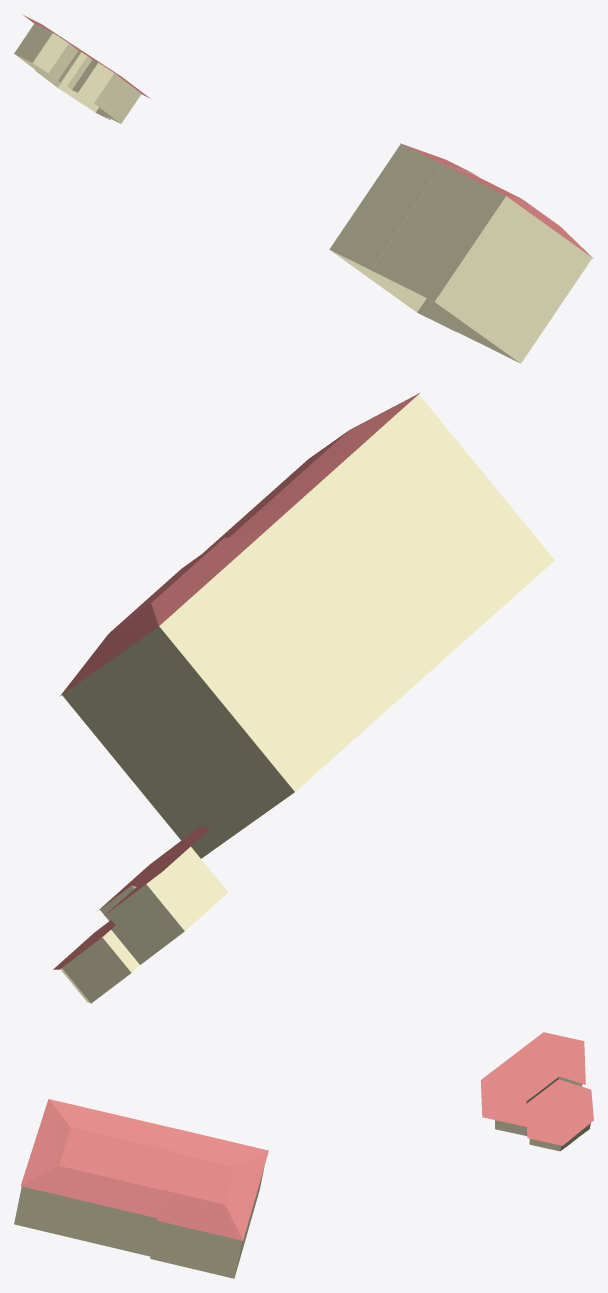
File: tile_049.glb
The picture shows the model from 3 angles, top to bottom: view 1: azimuth 30°, elevation 25°; view 2: azimuth 150°, elevation 25°; view 3: azimuth 270°, elevation 25°; orthographic projection. The views are drawn at different scales.
Parts seen in each view (by area): view 1: Batched_Building_ID_108E175D-79D8-4683-9E39-C5918D22CE59; view 2: Batched_Building_ID_108E175D-79D8-4683-9E39-C5918D22CE59; view 3: Batched_Building_ID_108E175D-79D8-4683-9E39-C5918D22CE59.
Boxes of the visible parts, <box> form: Batched_Building_ID_108E175D-79D8-4683-9E39-C5918D22CE59: <box>14,15,593,363</box>; Batched_Building_ID_108E175D-79D8-4683-9E39-C5918D22CE59: <box>53,392,554,1003</box>; Batched_Building_ID_108E175D-79D8-4683-9E39-C5918D22CE59: <box>14,1032,593,1278</box>.
Size of the model in its own units: 62.4 by 43.54 by 134.
